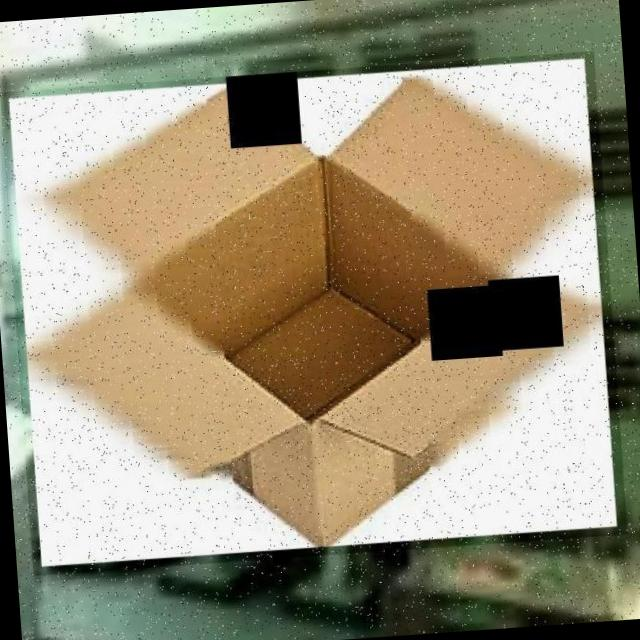box: (0, 50, 627, 575)
